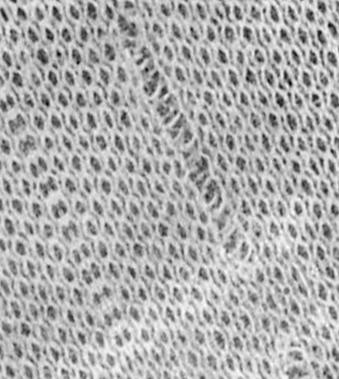slub: (114, 23, 265, 264)
